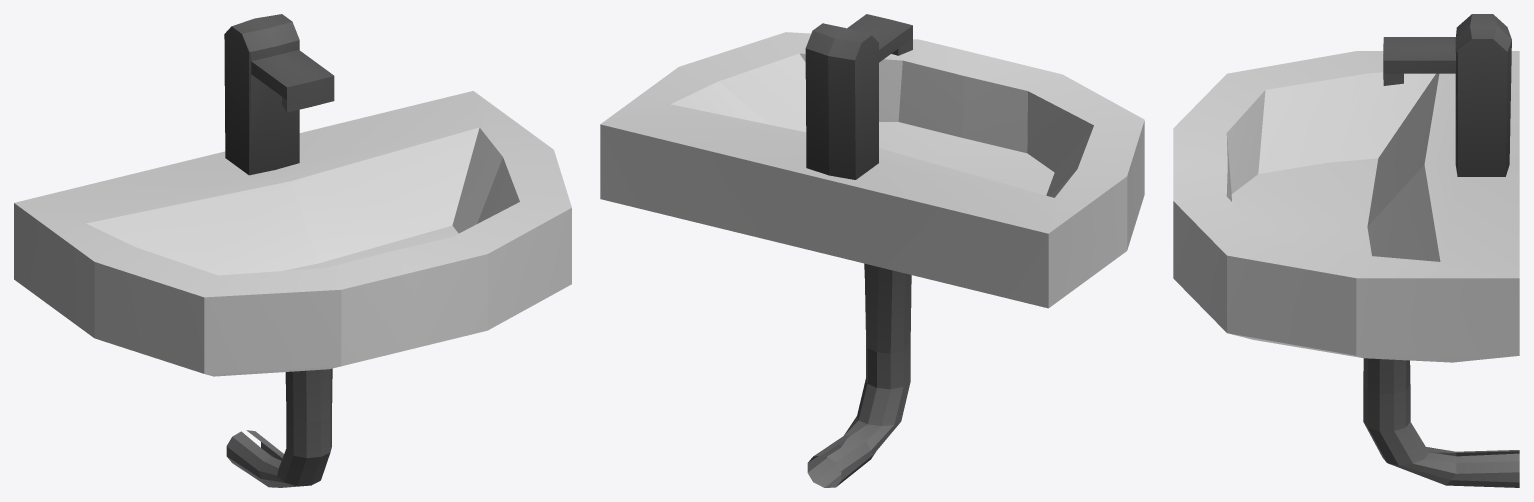
File: sp_sink_bathroom.fbx
3 renders of one model, left to right at view 1: azimuth 30°, elevation 25°; view 2: azimuth 150°, elevation 25°; view 3: azimuth 270°, elevation 25°, orthographic. The views are drawn at different scales.
Visible parts, largest first — view 1: sp_sink_bathroom; view 2: sp_sink_bathroom; view 3: sp_sink_bathroom.
Part boxes in pixels (left/top/right/bottom): sp_sink_bathroom: left=14, top=14, right=571, bottom=487; sp_sink_bathroom: left=600, top=14, right=1144, bottom=487; sp_sink_bathroom: left=1173, top=14, right=1519, bottom=487.
Bounding box in the file's own units: 106 × 99.36 × 67.96.
